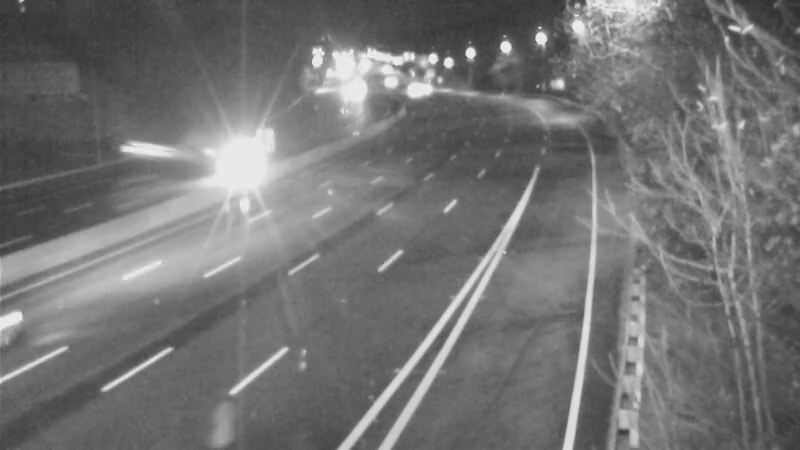vehicle: (201, 128, 281, 208), (389, 63, 439, 113)
